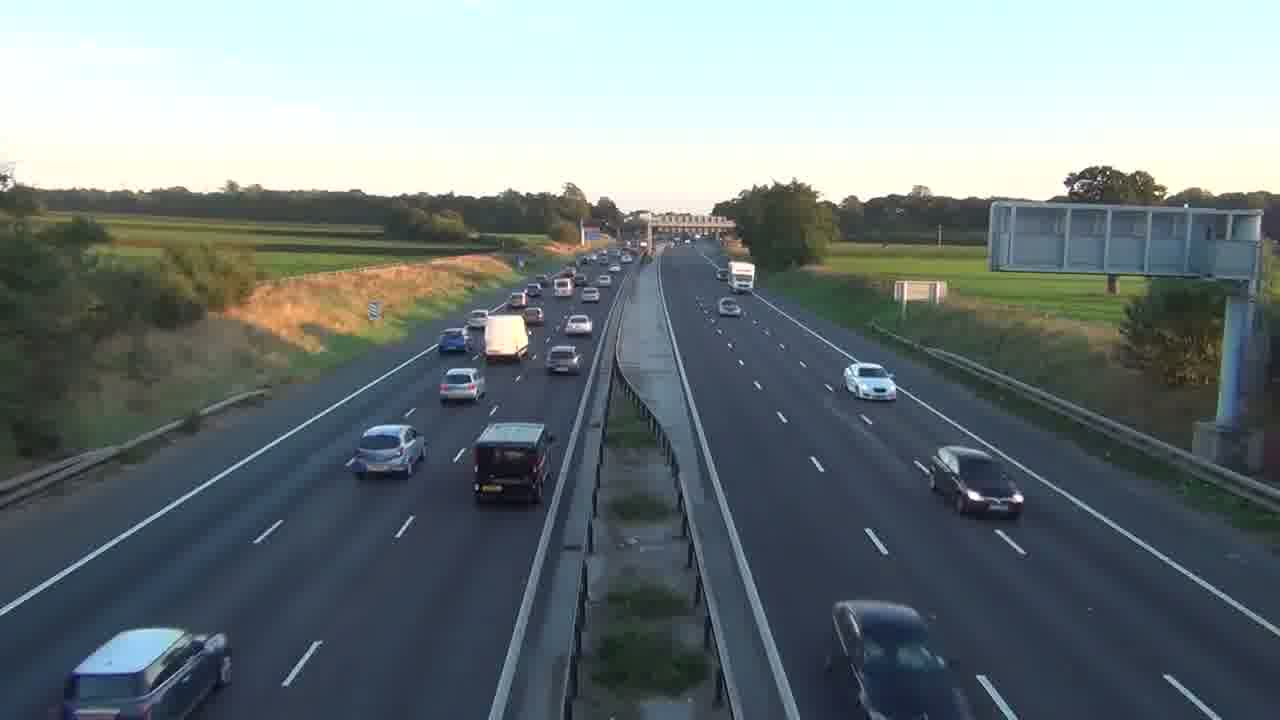car: (61, 624, 234, 718), (830, 598, 948, 717), (926, 444, 1025, 520), (345, 423, 428, 480), (842, 362, 898, 402), (439, 366, 482, 404), (545, 344, 581, 374), (561, 313, 594, 336)
truck: (471, 421, 552, 505), (482, 313, 531, 363), (729, 260, 755, 293)
